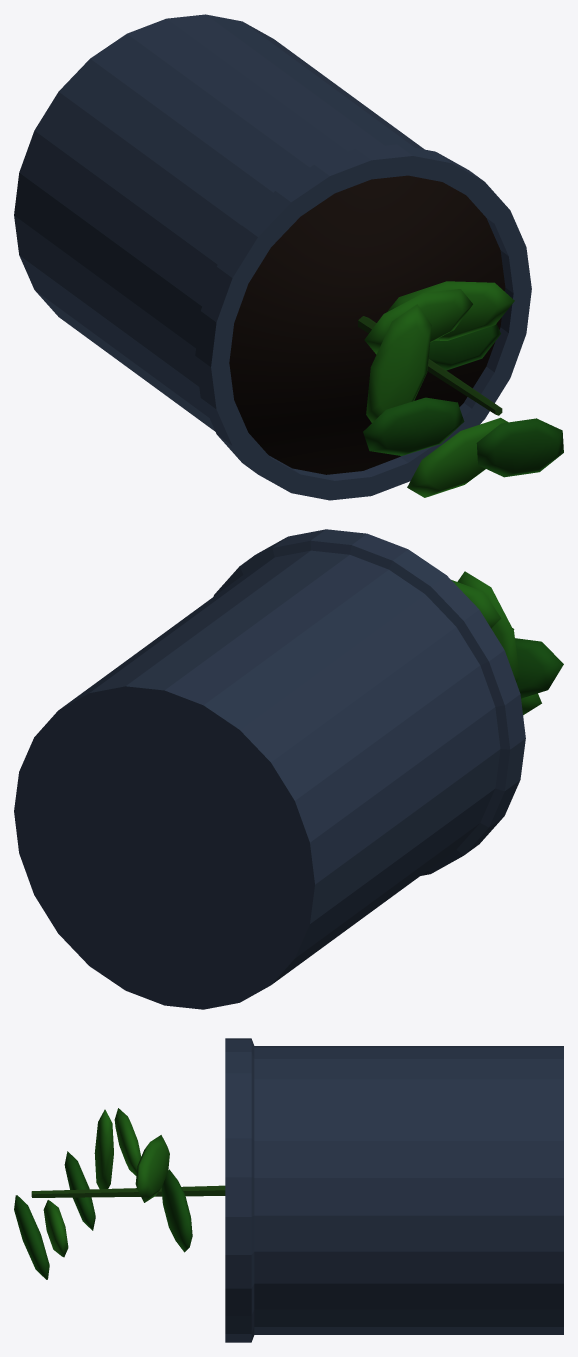
File: plant_pot.obj
The picture shows the model from 3 angles, top to bottom: view 1: azimuth 30°, elevation 25°; view 2: azimuth 150°, elevation 25°; view 3: azimuth 270°, elevation 25°; orthographic projection. The views are drawn at different scales.
Visible parts, largest first — view 1: plant_pot; view 2: plant_pot; view 3: plant_pot.
Part boxes in pixels (box(x1,y1,x2,y2)): plant_pot: box(14, 14, 563, 500); plant_pot: box(14, 529, 563, 1009); plant_pot: box(14, 1038, 563, 1342).
Bounding box in the file's own units: 0.316 × 0.316 × 0.5685.
